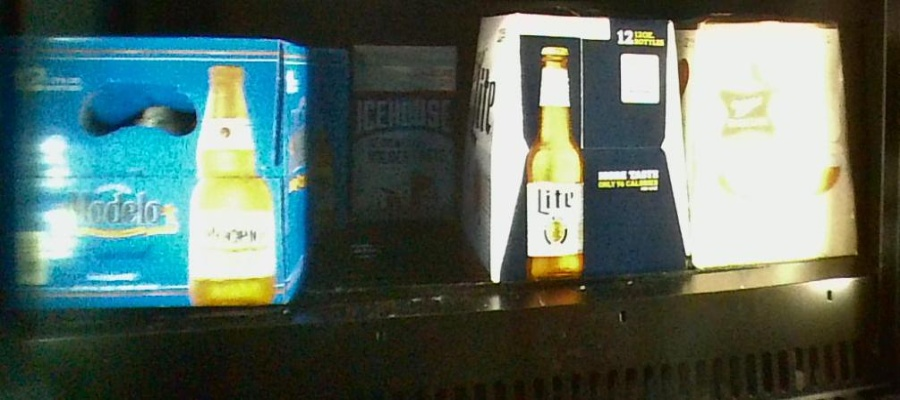bottle: (1, 39, 309, 309), (474, 13, 679, 276), (681, 19, 854, 265), (349, 44, 459, 225)
